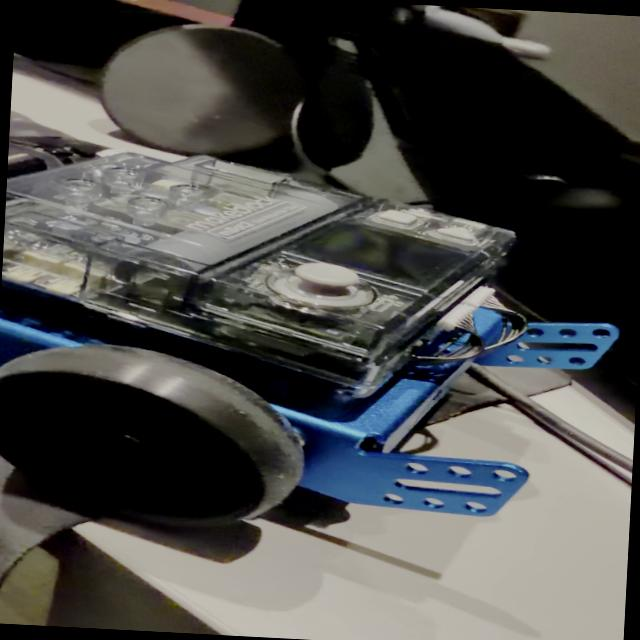mbot-detection: (0, 135, 636, 555)
